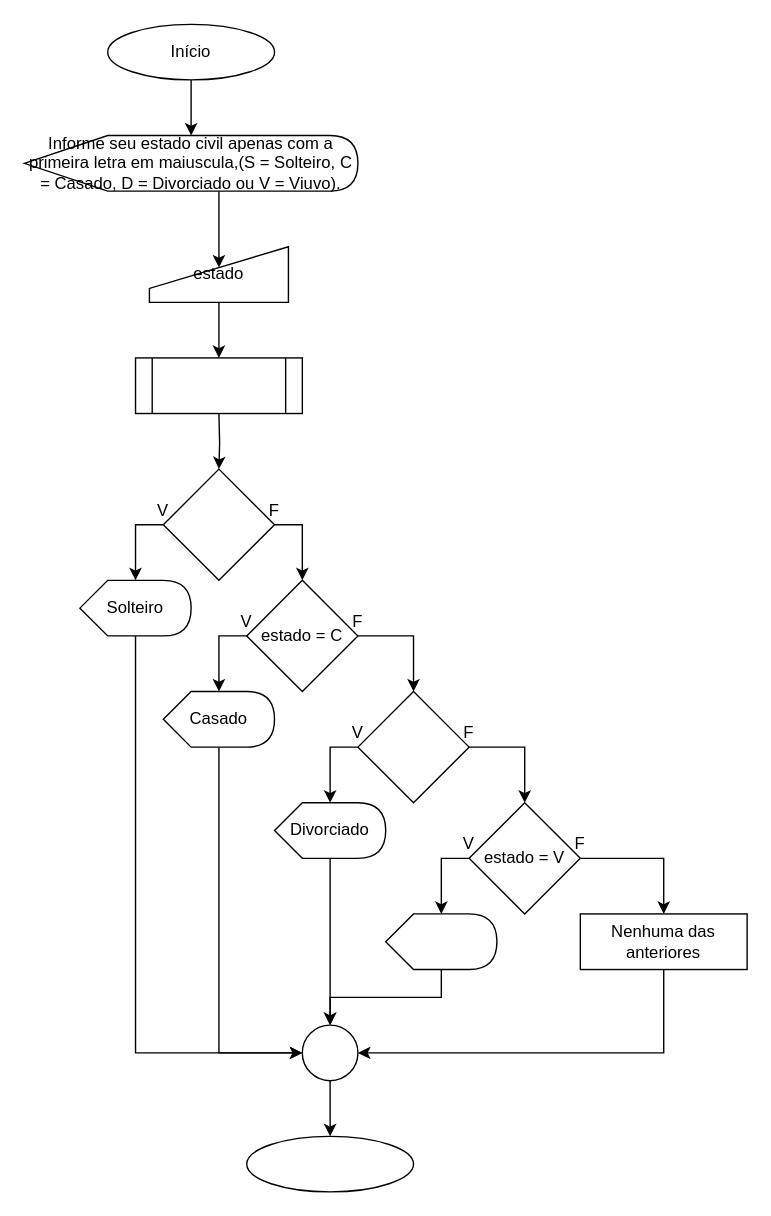
This 771x1216 diagram has some shape labels left out. Here are the shapes that lost their labels. From the top down, the box of each, then its label:
(134, 357, 302, 414): toupper( estado )
(162, 468, 275, 580): estado = S
(357, 690, 469, 803): estado = D
(384, 913, 497, 970): Viuvo
(245, 1135, 414, 1192): Fim
